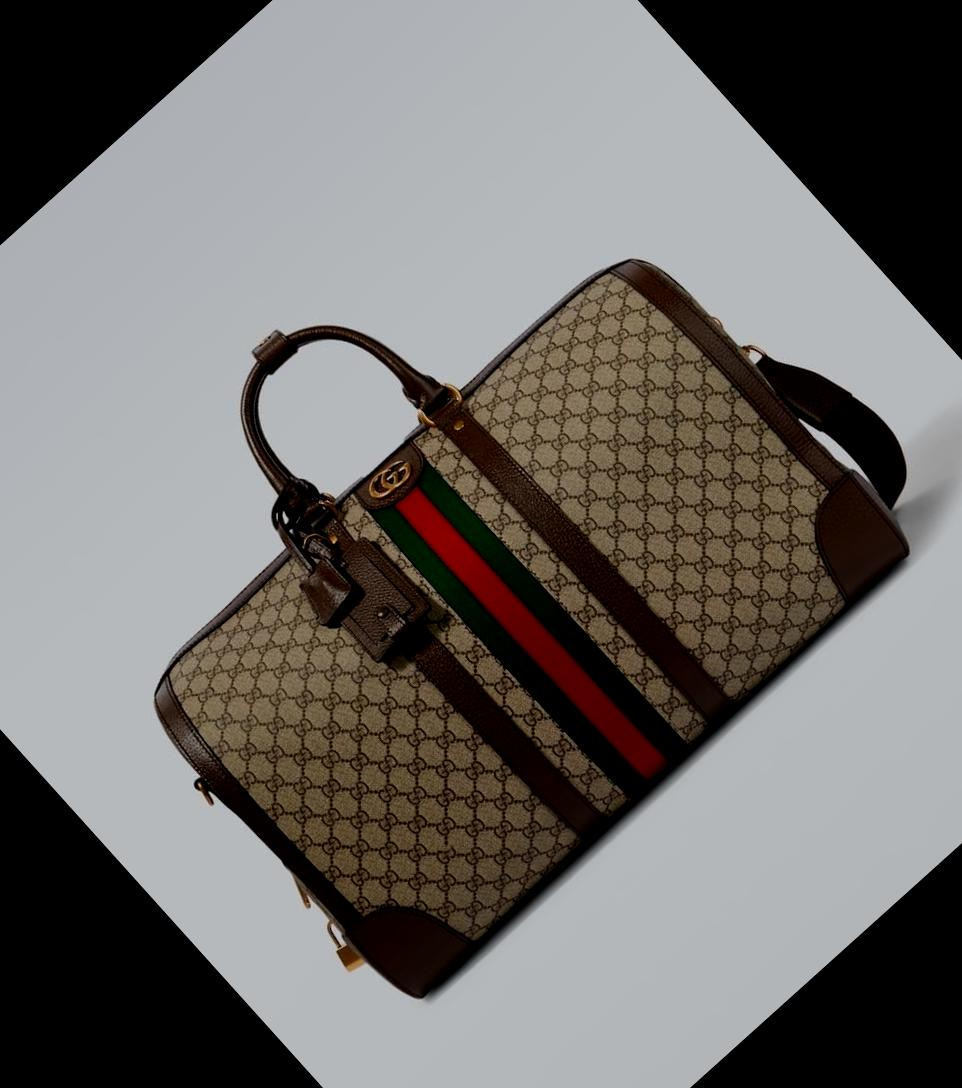GUCCI: (363, 452, 418, 506)
